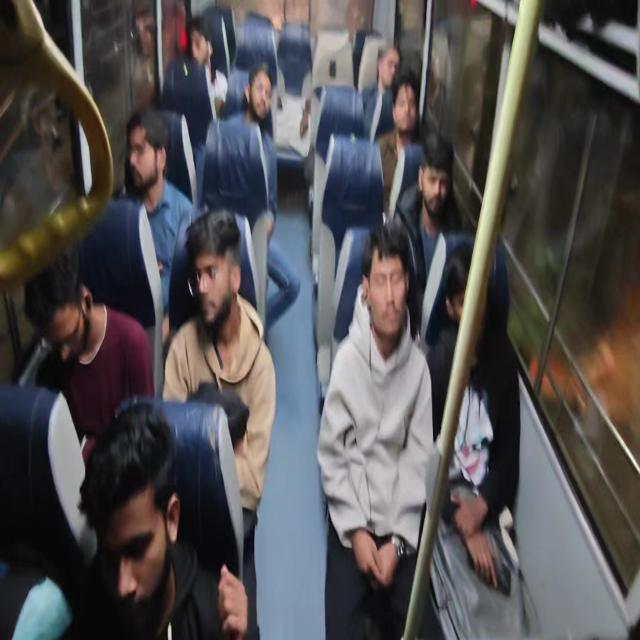person: (76, 359, 228, 640), (178, 210, 242, 376), (448, 254, 522, 369), (359, 206, 417, 338), (40, 241, 93, 365), (416, 140, 468, 236), (229, 44, 278, 140), (128, 118, 185, 200), (381, 80, 429, 166), (369, 28, 411, 108), (276, 65, 314, 148), (186, 11, 224, 67)
